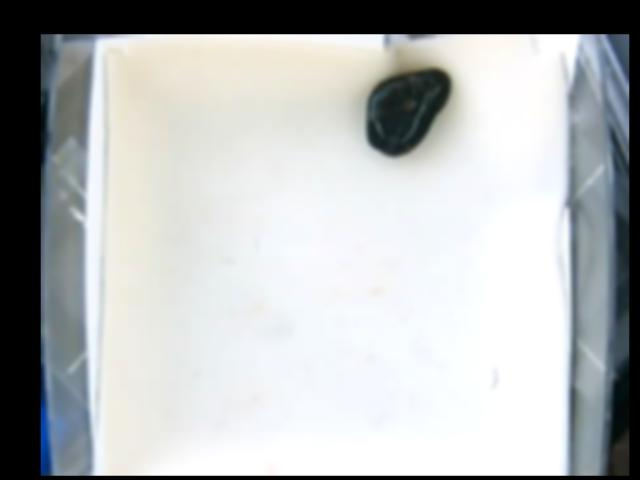Pebble: (366, 66, 450, 156)
